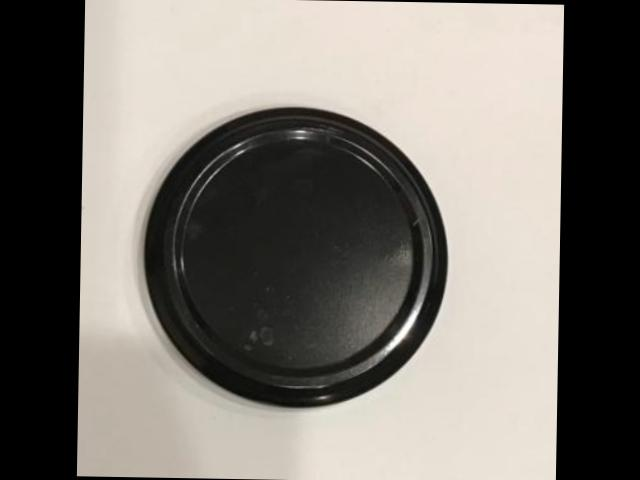metal: (147, 106, 448, 405)
